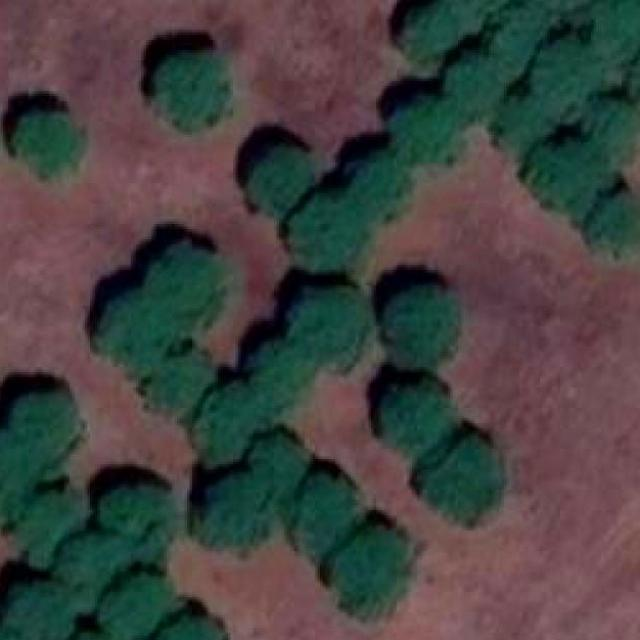Tree: (292, 283, 369, 370), (333, 530, 408, 618), (528, 139, 610, 209), (425, 442, 500, 518), (98, 296, 170, 372), (295, 196, 369, 268), (153, 247, 223, 322), (386, 290, 456, 365), (200, 477, 272, 549), (197, 386, 264, 462), (156, 52, 228, 122), (16, 492, 88, 561), (384, 382, 449, 452), (533, 40, 597, 111), (103, 488, 175, 549), (392, 101, 461, 163), (407, 0, 489, 52), (297, 479, 359, 546), (13, 396, 78, 457), (105, 577, 172, 636), (61, 539, 131, 593), (16, 111, 81, 168), (8, 587, 73, 640), (492, 7, 546, 69), (146, 360, 206, 414), (351, 157, 405, 217), (254, 150, 308, 207), (591, 2, 640, 63), (448, 64, 502, 117), (258, 344, 310, 398), (0, 431, 34, 510), (501, 96, 550, 150), (591, 101, 637, 158), (256, 438, 304, 492), (593, 197, 640, 250), (148, 619, 219, 640), (70, 635, 119, 640)
